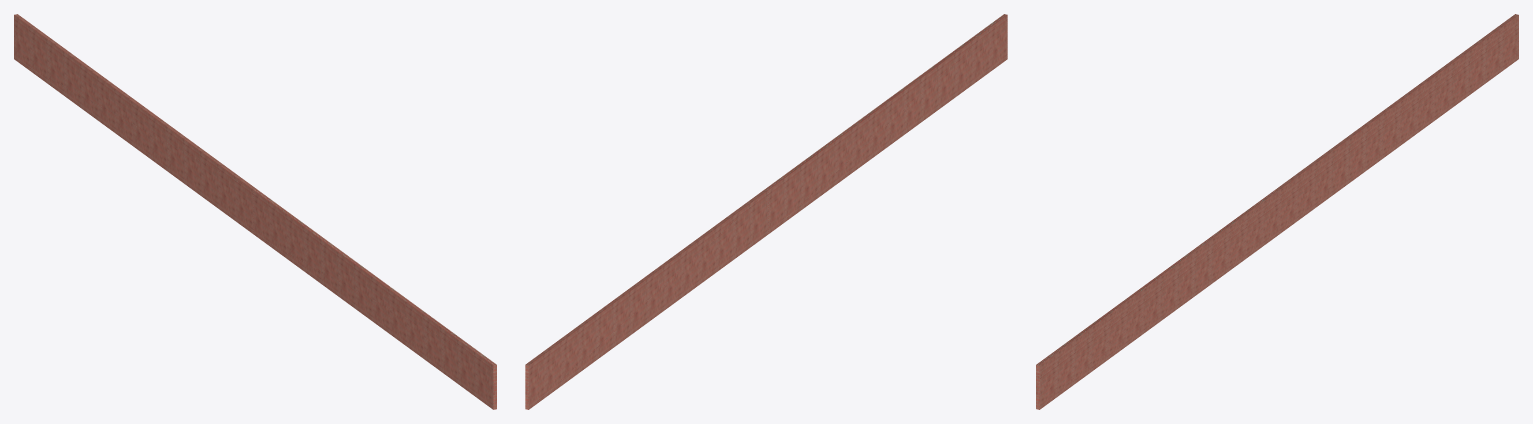
The model's file is BRCIKWALL06.glb.
3 renders of one model, left to right at view 1: azimuth 30°, elevation 25°; view 2: azimuth 150°, elevation 25°; view 3: azimuth 330°, elevation 25°, orthographic.
Parts seen in each view (by area): view 1: BRCIKWALL06; view 2: BRCIKWALL06; view 3: BRCIKWALL06.
Part boxes in pixels (x1,y1,x2,y2): BRCIKWALL06: (14, 14, 496, 409); BRCIKWALL06: (525, 14, 1007, 409); BRCIKWALL06: (1036, 14, 1518, 409).
Bounding box in the file's own units: 66.32 × 784 × 15330.
Materials: 1 (1 with a texture image).
